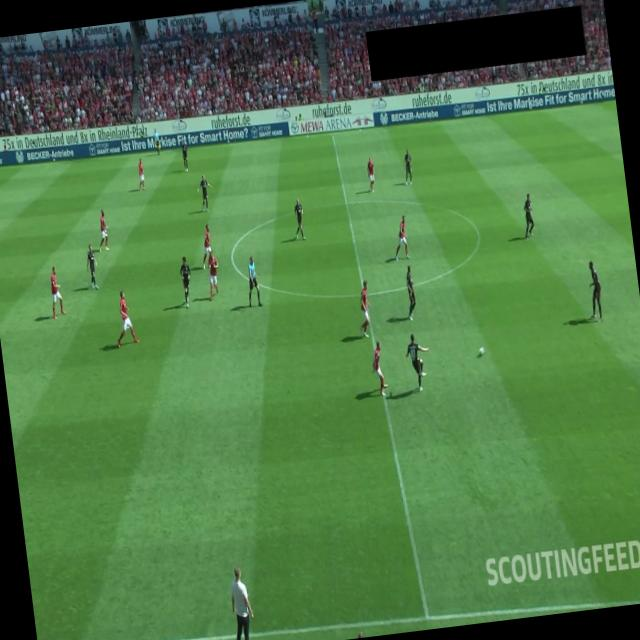ball: (478, 346, 486, 356)
player: (403, 331, 434, 392), (110, 288, 140, 348), (584, 259, 604, 322), (354, 279, 374, 338), (369, 339, 389, 396), (46, 265, 66, 319), (203, 248, 222, 300), (390, 214, 410, 261), (178, 255, 195, 308), (402, 264, 418, 320), (194, 174, 216, 214), (197, 223, 214, 270), (84, 243, 100, 290), (94, 208, 111, 252), (520, 193, 536, 239), (290, 197, 306, 241), (401, 148, 414, 185), (365, 156, 376, 192), (135, 157, 146, 191), (180, 138, 190, 172)
referee: (242, 255, 262, 307), (153, 127, 161, 155)
